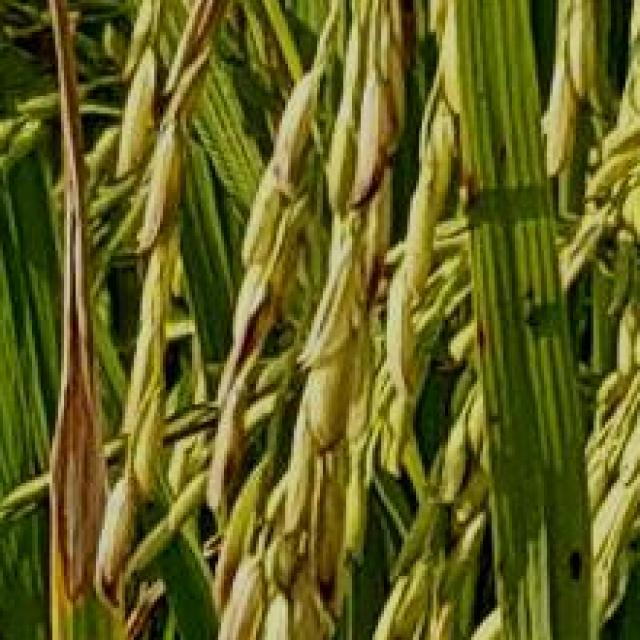Bacterial_Leaf_Blight: (37, 0, 116, 599)
